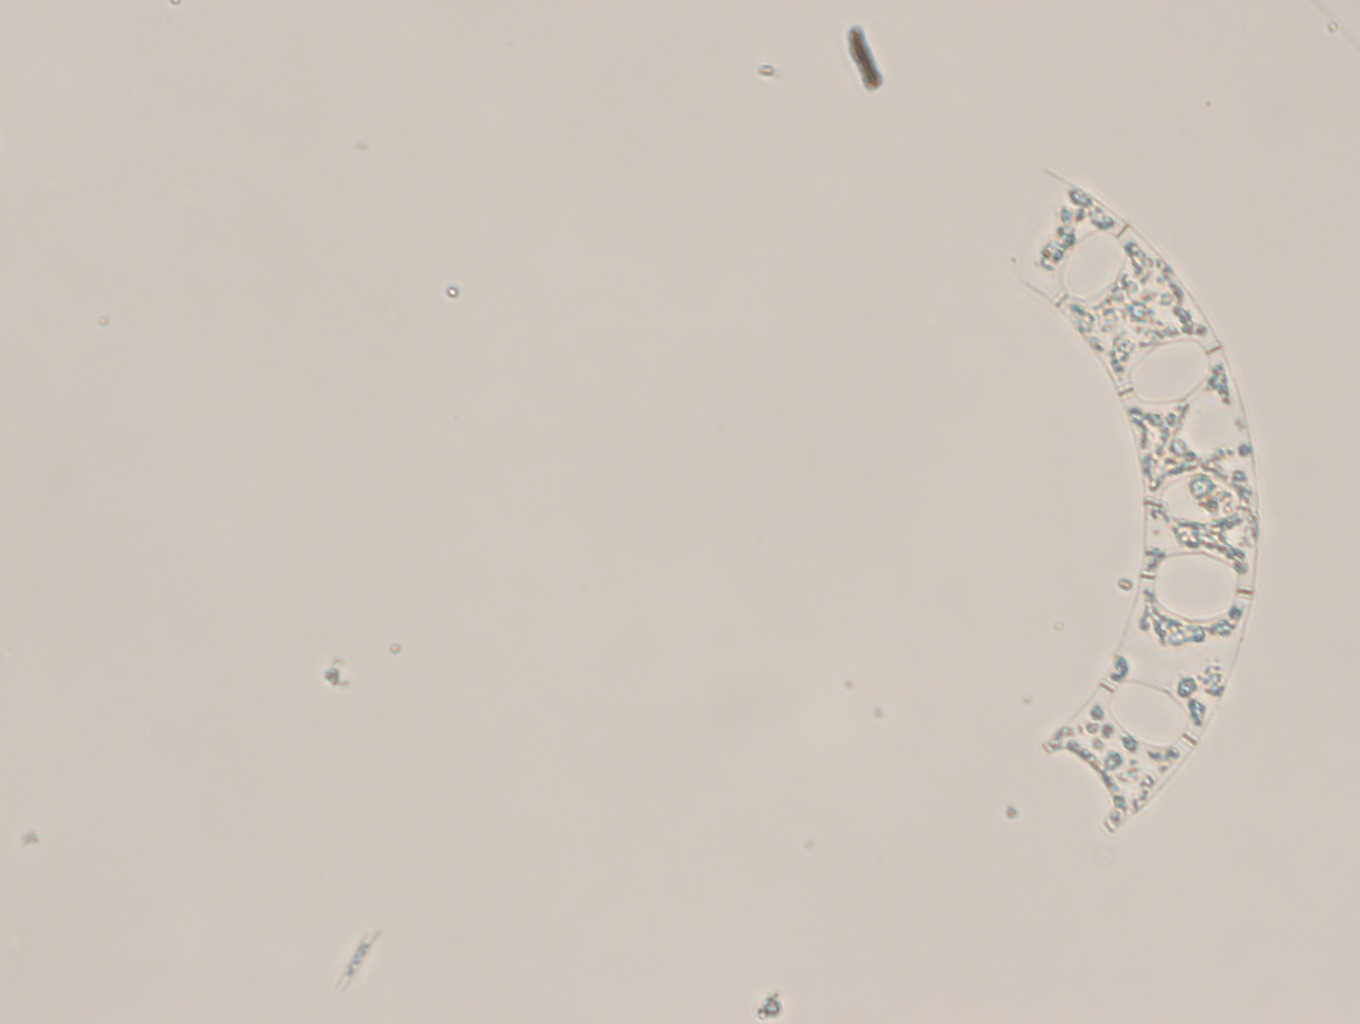eucampia: (994, 155, 1268, 847)
